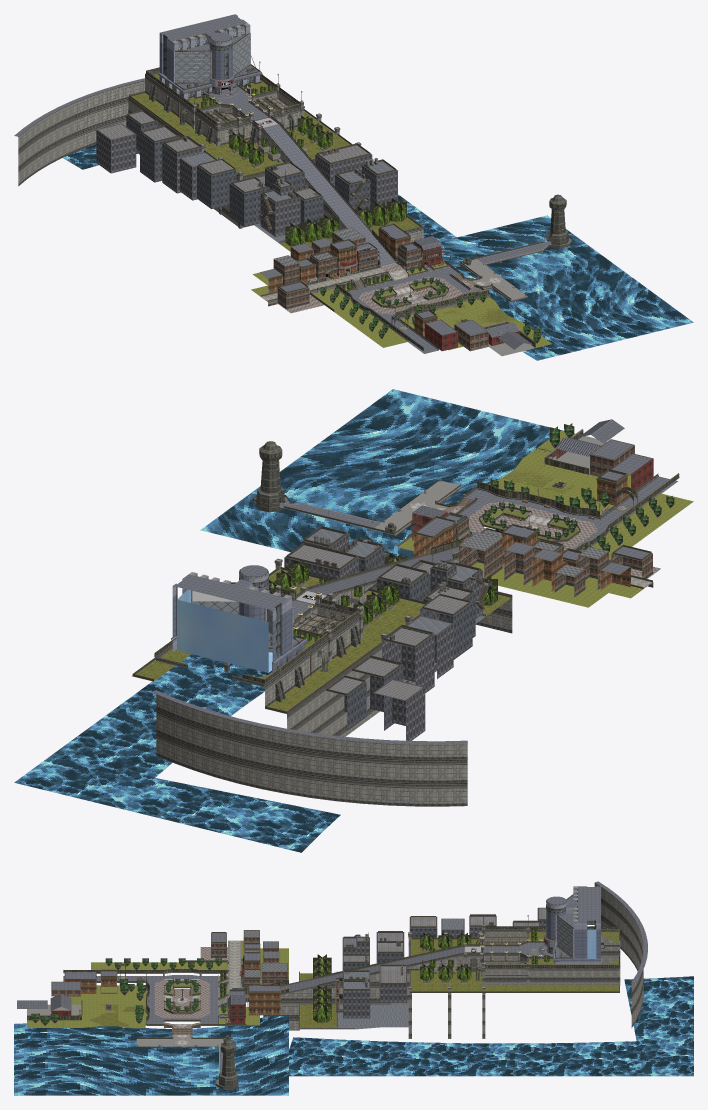
The model's file is HarborDistrict.glb.
3 renders of one model, top to bottom at view 1: azimuth 30°, elevation 25°; view 2: azimuth 150°, elevation 25°; view 3: azimuth 270°, elevation 25°, orthographic. The views are drawn at different scales.
Visible parts, largest first — view 1: Object.2217, Object.2121, Object.2128, Object.2229, Object.2125, Object.2116, Object.2221, Object.2264, Object.2269, Object.2120, Object.2315, Object.2327 (+43 smaller); view 2: Object.2217, Object.2221, Object.2323, Object.2219, Object.2121, Object.2128, Object.2339, Object.2125, Object.2345, Object.2341, Object.2184, Object.2116 (+56 smaller); view 3: Object.2121, Object.2128, Object.2339, Object.2125, Object.2116, Object.2127, Object.2115, Object.2120, Object.2337, Object.2184, Object.2341, Object.2264 (+74 smaller).
Boxes of the visible parts, left/top/right/bottom form: Object.2217: left=62, top=86, right=122, bottom=157; Object.2121: left=553, top=302, right=673, bottom=346; Object.2128: left=541, top=274, right=635, bottom=322; Object.2229: left=158, top=28, right=243, bottom=99; Object.2125: left=489, top=251, right=575, bottom=293; Object.2116: left=443, top=224, right=555, bottom=267; Object.2221: left=18, top=108, right=61, bottom=186; Object.2264: left=315, top=144, right=397, bottom=205; Object.2269: left=111, top=134, right=198, bottom=192; Object.2120: left=522, top=322, right=594, bottom=359; Object.2315: left=282, top=158, right=384, bottom=238; Object.2327: left=175, top=41, right=240, bottom=83; Object.2217: left=261, top=727, right=361, bottom=803; Object.2221: left=363, top=741, right=467, bottom=806; Object.2323: left=177, top=589, right=278, bottom=672; Object.2219: left=176, top=702, right=261, bottom=788; Object.2121: left=376, top=396, right=524, bottom=456; Object.2128: left=316, top=430, right=484, bottom=483; Object.2339: left=88, top=750, right=201, bottom=812; Object.2125: left=291, top=472, right=426, bottom=522; Object.2345: left=214, top=796, right=340, bottom=848; Object.2341: left=167, top=787, right=275, bottom=831; Object.2184: left=271, top=647, right=344, bottom=736; Object.2116: left=233, top=502, right=376, bottom=550; Object.2121: left=14, top=1047, right=80, bottom=1086; Object.2128: left=80, top=1047, right=147, bottom=1089; Object.2339: left=605, top=1024, right=693, bottom=1057; Object.2125: left=147, top=1046, right=215, bottom=1081; Object.2116: left=215, top=1046, right=288, bottom=1092; Object.2127: left=80, top=1026, right=149, bottom=1058; Object.2115: left=214, top=1016, right=281, bottom=1056; Object.2120: left=14, top=1023, right=81, bottom=1058; Object.2337: left=535, top=1057, right=642, bottom=1076; Object.2184: left=538, top=936, right=610, bottom=985; Object.2341: left=630, top=993, right=693, bottom=1025; Object.2264: left=343, top=966, right=406, bottom=1018.
Size of the model in its own units: 175 by 60.66 by 297.
41 materials, 41 textured.
